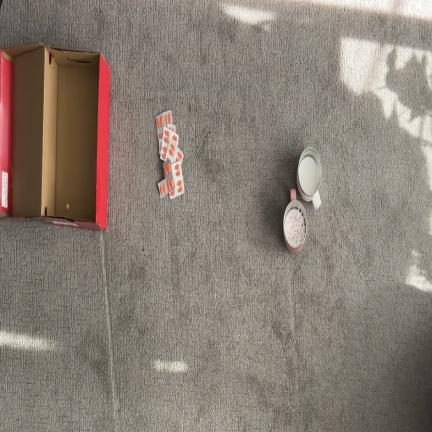IBC: (283, 189, 308, 252), (297, 147, 322, 209)
